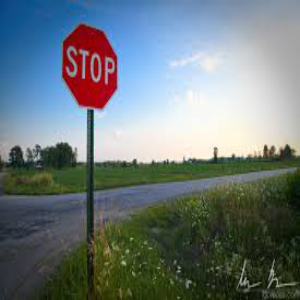STOP_SIGN: (61, 21, 119, 111)
